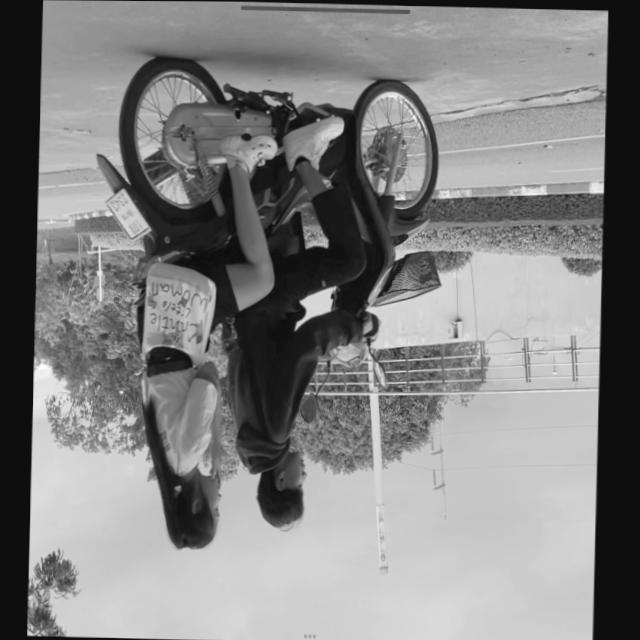seatbelt: (159, 469, 223, 553), (253, 444, 310, 531)
